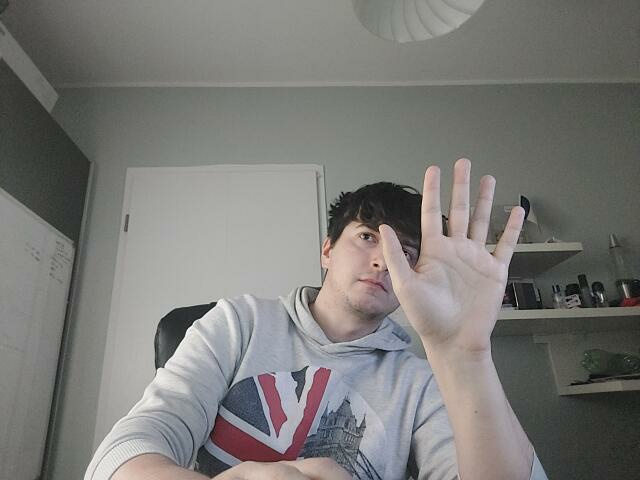hello: (381, 155, 527, 349)
